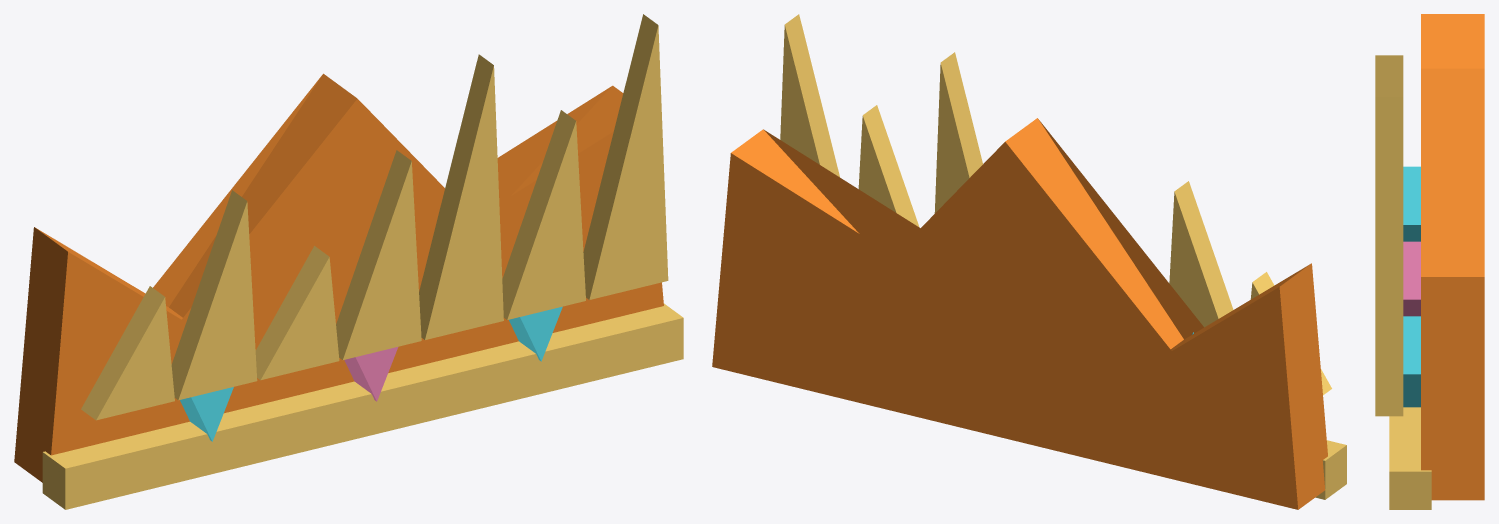
The model's file is fire-king.glb.
3 views of the same model, side by side, from view 1: azimuth 30°, elevation 25°; view 2: azimuth 150°, elevation 25°; view 3: azimuth 270°, elevation 25° (orthographic). The views are drawn at different scales.
Parts seen in each view (by area): view 1: flame tongue (×7), sculpted crown, crown band, crown gemstone (×3); view 2: sculpted crown, flame tongue (×4), crown band; view 3: sculpted crown, flame tongue (×3), crown gemstone (×3), crown band.
Boxes of the visible parts, x1,y1,x2,y2 form: flame tongue (×7): (81, 14, 668, 420); sculpted crown: (14, 73, 663, 482); crown band: (42, 303, 683, 509); crown gemstone (×3): (180, 306, 562, 441); sculpted crown: (712, 118, 1327, 509); flame tongue (×4): (780, 14, 1233, 327); crown band: (1315, 440, 1346, 499); sculpted crown: (1421, 14, 1484, 500); flame tongue (×3): (1375, 55, 1403, 416); crown gemstone (×3): (1403, 166, 1420, 407); crown band: (1389, 407, 1431, 509).
Size of the model in its own units: 1.88 by 1.01 by 0.31.
